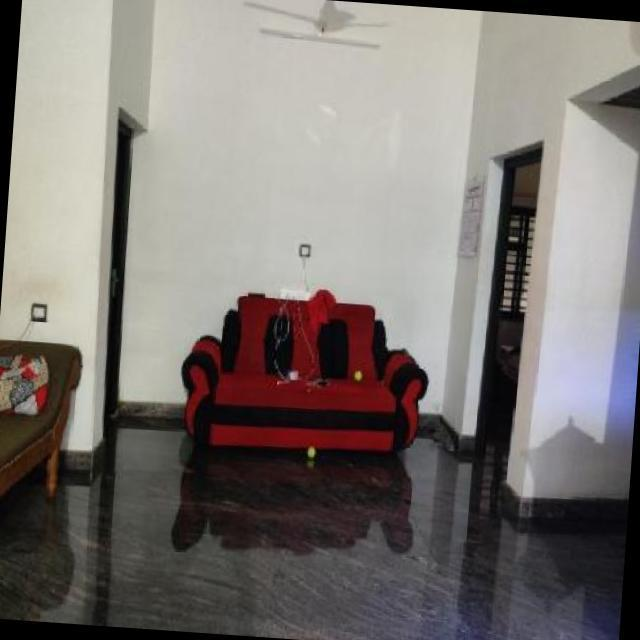-: (300, 436, 327, 475), (343, 356, 370, 395)
